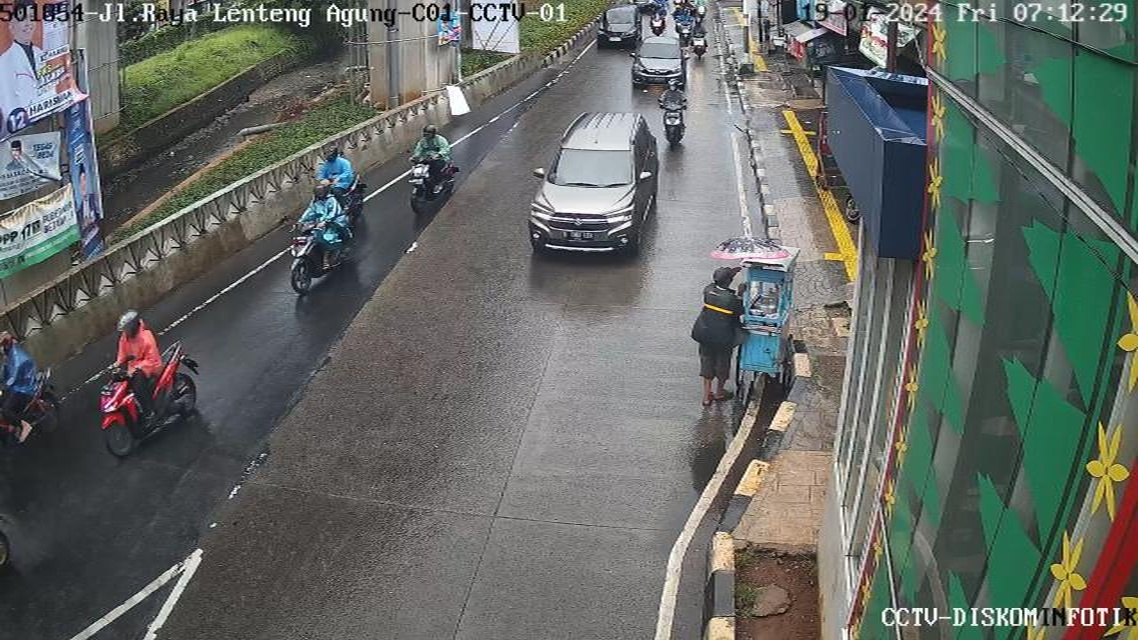Gerobak: (686, 224, 832, 436)
